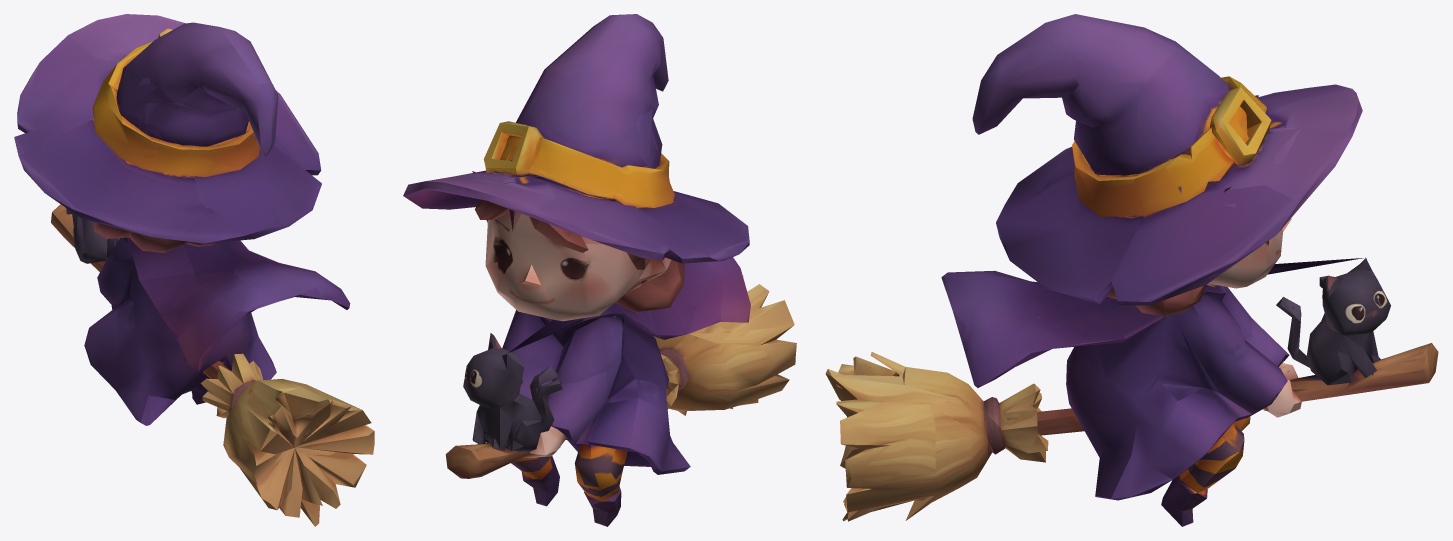
File: H4_WitchOnBroom_LOD2.fbx
3 renders of one model, left to right at view 1: azimuth 30°, elevation 25°; view 2: azimuth 150°, elevation 25°; view 3: azimuth 270°, elevation 25°, orthographic. The views are drawn at different scales.
Parts seen in each view (by area): view 1: H4_WitchOnBroom_LOD2; view 2: H4_WitchOnBroom_LOD2; view 3: H4_WitchOnBroom_LOD2.
Part boxes in pixels (bbox=[...]): H4_WitchOnBroom_LOD2: bbox=[14, 14, 374, 526]; H4_WitchOnBroom_LOD2: bbox=[403, 14, 796, 526]; H4_WitchOnBroom_LOD2: bbox=[825, 14, 1438, 526].
Bounding box in the file's own units: 0.6017 × 0.9037 × 0.9857.
Materials: 1 (1 with a texture image).
